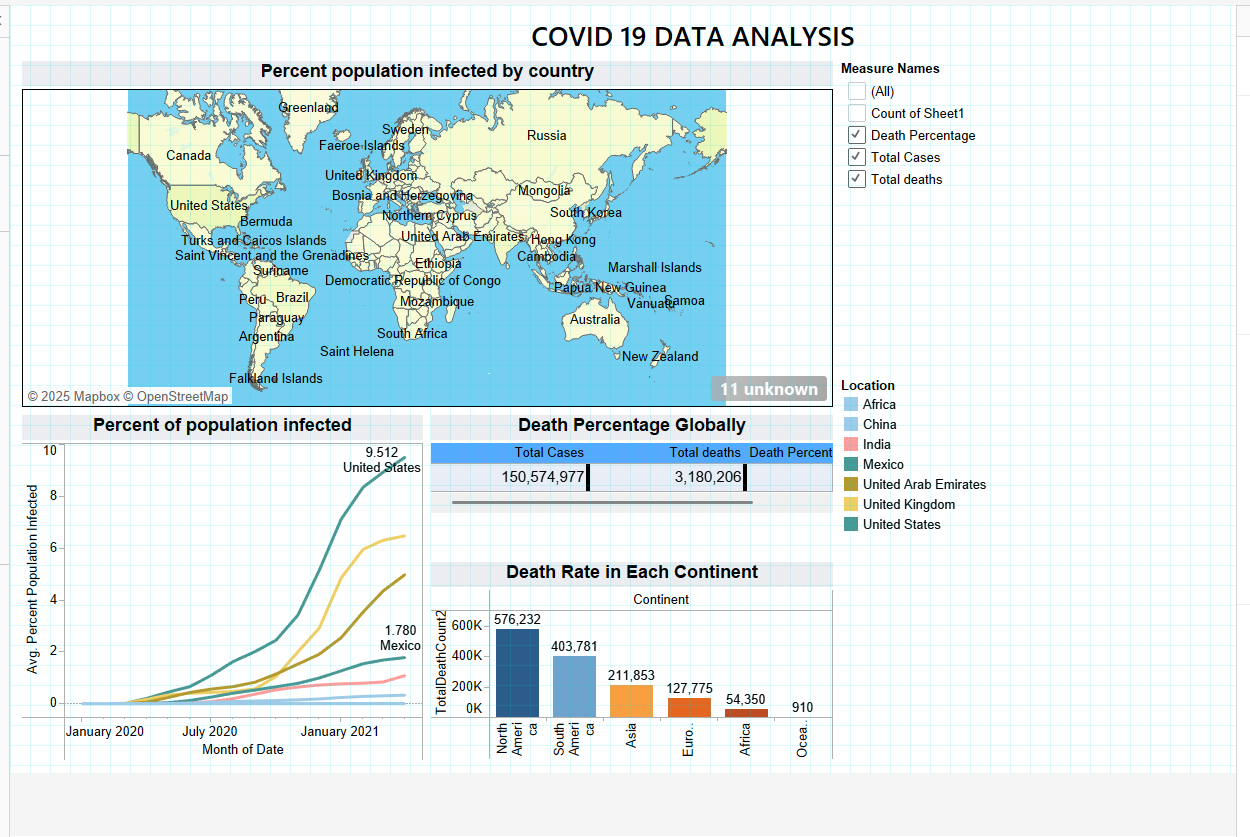

The dashboard page shown, as its layout file describes it:
{"tool":"tableau","page":{"name":"Dashboard 1","canvas":[1366,768],"ordinal":0},"visuals":[{"type":"title","box":[8,8,1350,44]},{"type":"worksheet","title":"Sheet 3","mark":"Automatic","box":[8,52,819,354]},{"type":"filter","title":"Sheet 1","param":"[federated.0xwog8w06jrd1d17ig1h914y3sj8].[:Measure Names]","box":[827,52,531,317]},{"type":"legend","title":"Sheet 4","param":"[federated.1p45ucg03mn8cj1dk1ic71nm737f].[none:location:nk]","box":[827,369,531,245]},{"type":"worksheet","title":"Sheet 4","mark":"Automatic","rows":["PercentPopulationInfected"],"cols":["date"],"box":[8,406,409.4,354]},{"type":"worksheet","title":"Sheet 1","mark":"Automatic","box":[417.4,406,409.6,147.2]},{"type":"worksheet","title":"Sheet 2","mark":"Automatic","rows":["TotalDeathCount2"],"cols":["continent"],"box":[417.4,553.2,409.6,206.8]}]}

Visuals, with their boxes on the page's 1366x768 design canvas (x1, y1, x2, y2). These are canvas units, not pixel positions in the 1250x837 screenshot, which may show the page scaled, cropped or inside an application window:
title: 8:8:1358:52
"Sheet 3" worksheet: 8:52:827:406
"Sheet 1" filter: 827:52:1358:369
"Sheet 4" legend: 827:369:1358:614
"Sheet 4" worksheet: 8:406:417:760
"Sheet 1" worksheet: 417:406:827:553
"Sheet 2" worksheet: 417:553:827:760
